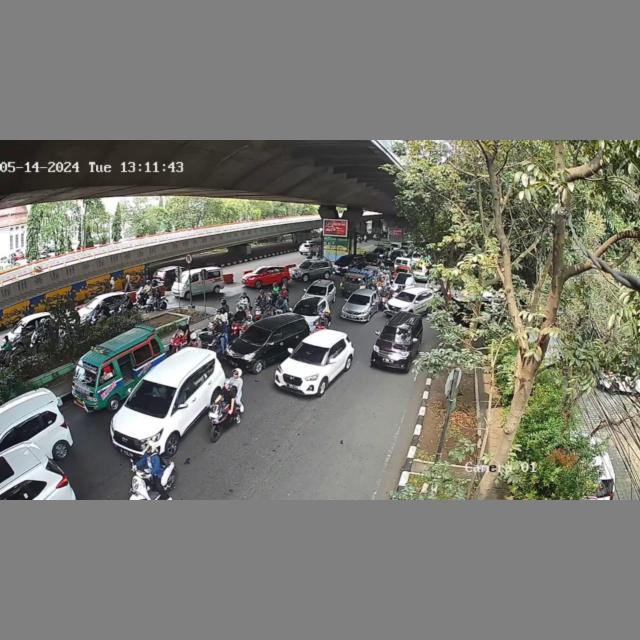windshield: (129, 379, 174, 418), (293, 341, 327, 366), (241, 322, 270, 343)
